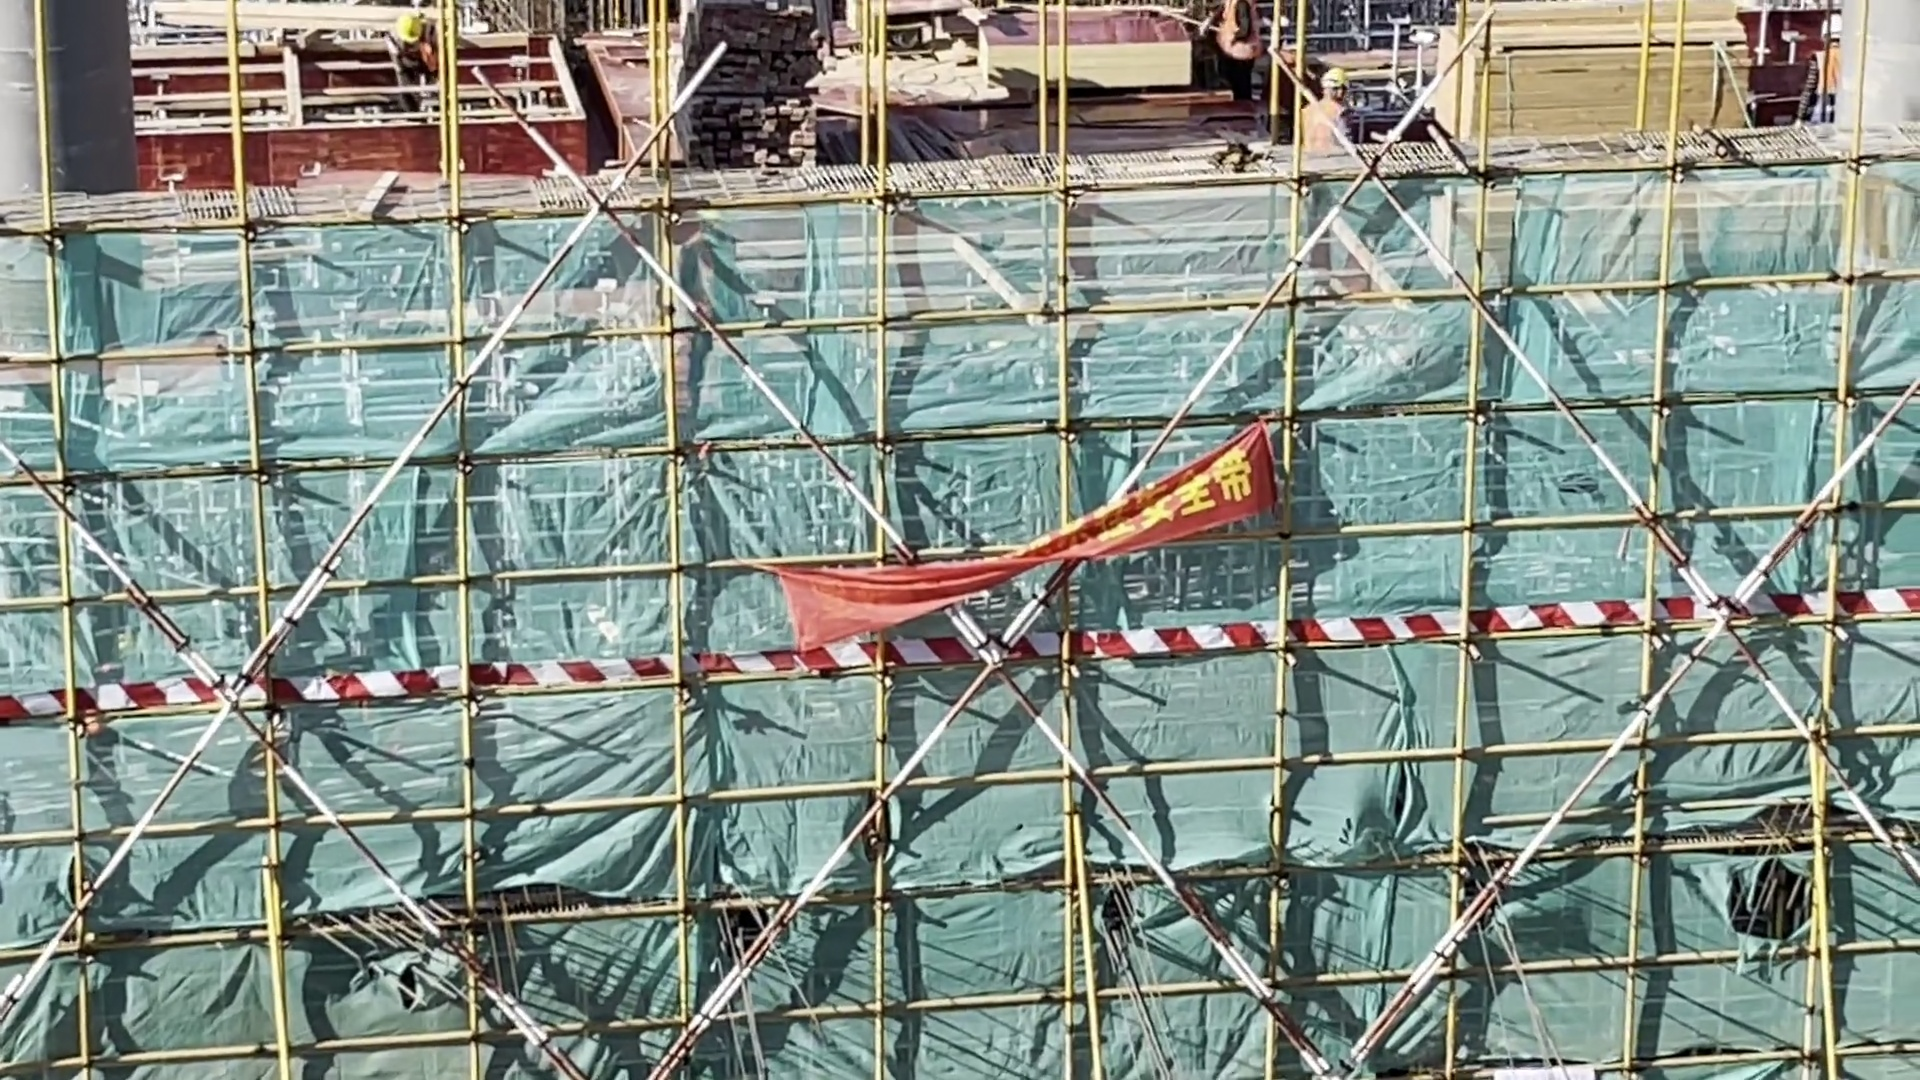helmet: (392, 6, 433, 46), (1318, 67, 1354, 97), (1815, 8, 1844, 42)
person: (1180, 2, 1266, 115), (1289, 60, 1366, 161), (1789, 12, 1856, 126), (377, 5, 454, 87)
slogan: (731, 408, 1313, 679)
vest: (1292, 90, 1349, 165), (1807, 50, 1858, 128)
wood: (1430, 1, 1767, 157), (667, 1, 836, 168)
